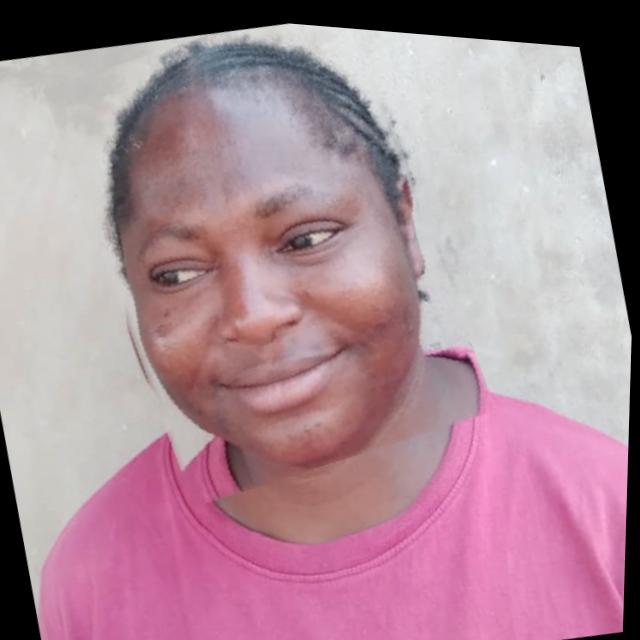happy: (43, 3, 497, 520)
